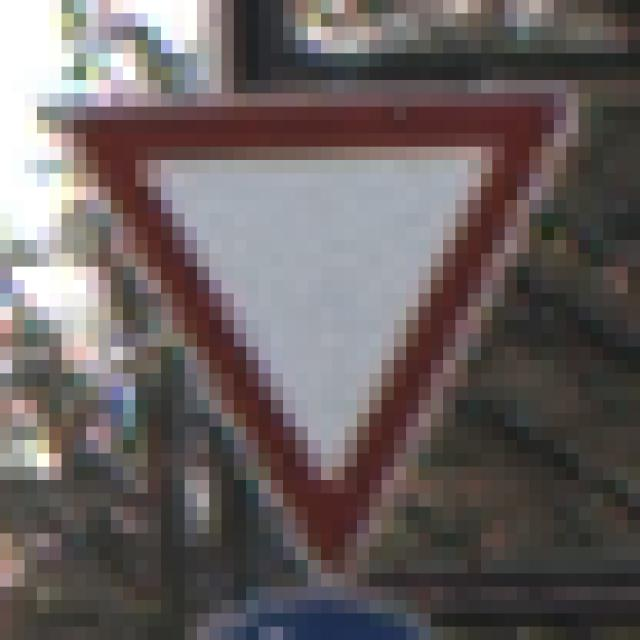Give Way: (63, 68, 580, 561)
